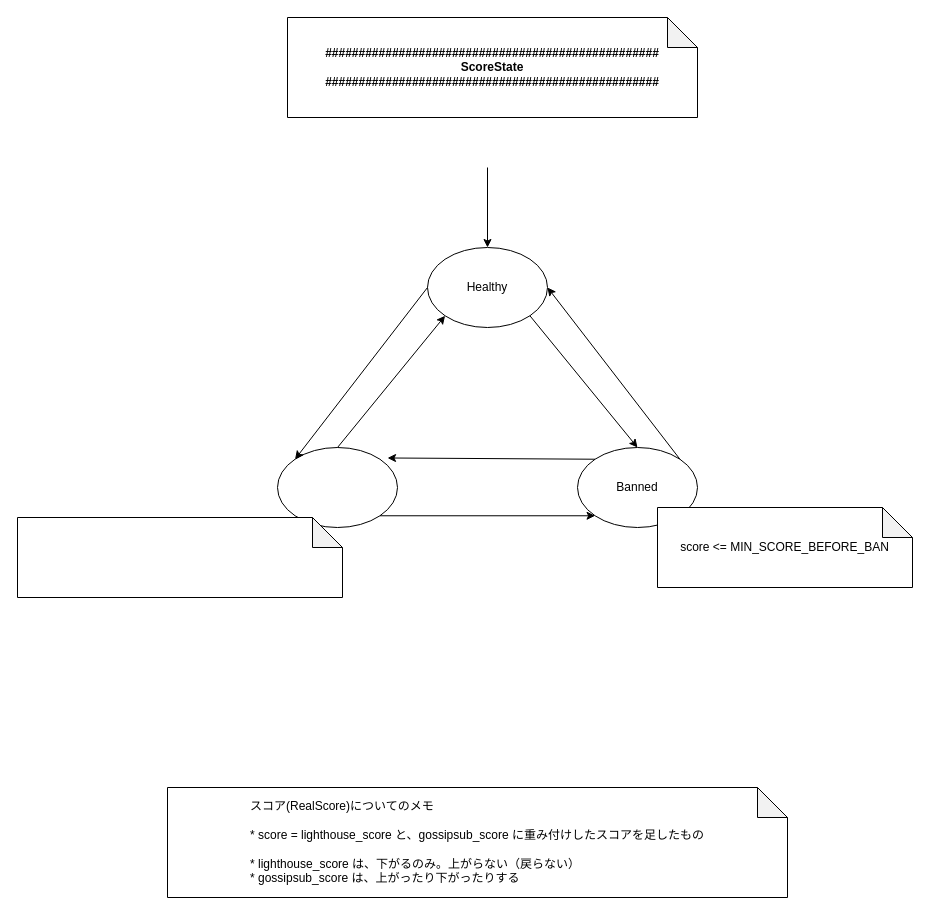
Some shapes in this 930 by 915 pixel diagram are drawn without their labels. The box of each missing label's shape, as (x1, y1, x2, y2) in pixels:
Disconnected: (276, 446, 398, 528)
score <= MIN_SCORE_BEFORE_DISCONNECT: (16, 516, 342, 598)
